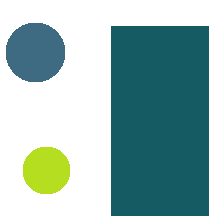circle: (6, 23, 64, 81), (23, 147, 69, 193)
rectangle: (111, 26, 208, 215)
